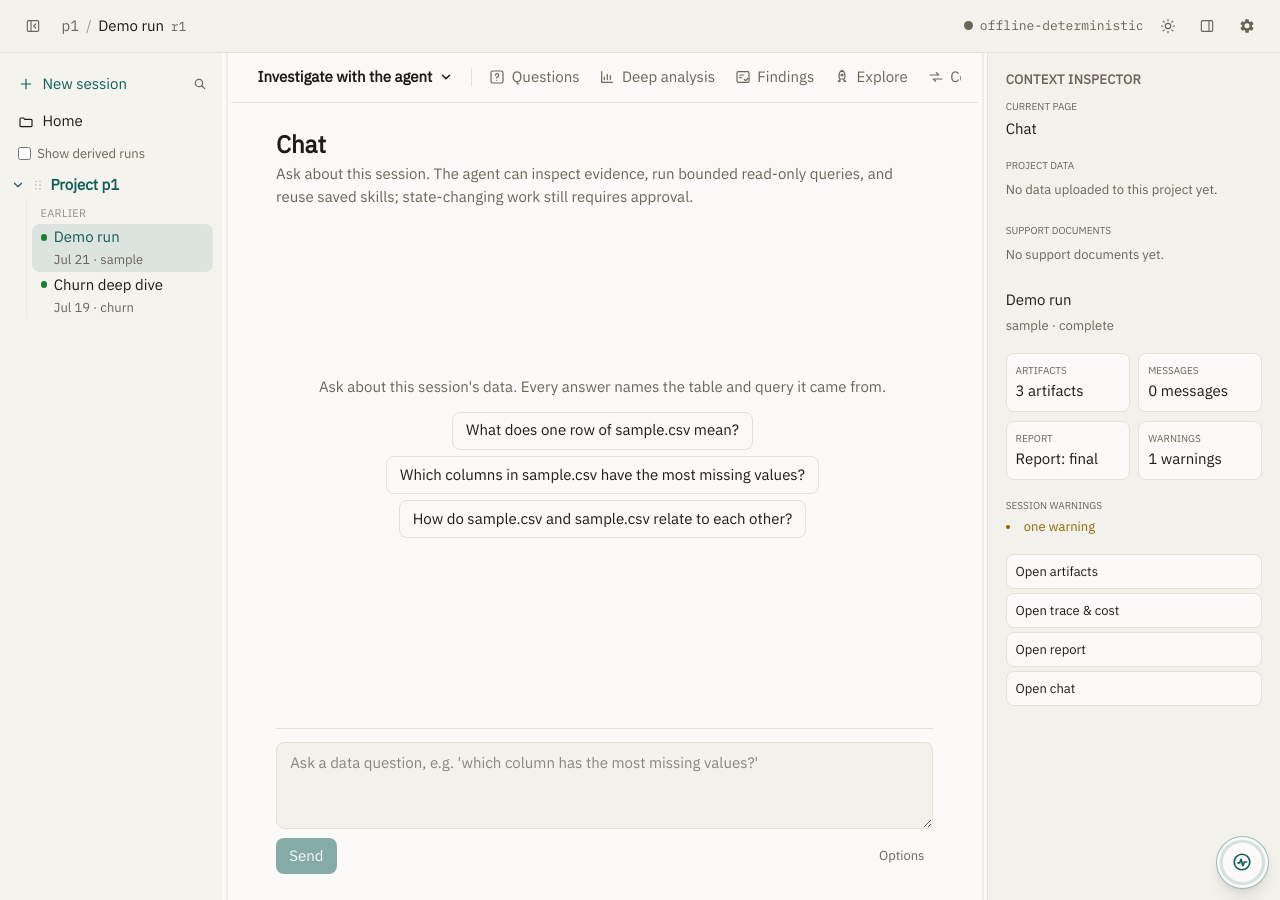
Test case: Chat page › explains a busy run instead of dropping the message
Check: the heading "Chat" is shown, box [276, 128, 326, 160]
Replace the text in the text box named "Message" with "hello": [605, 786] box [276, 742, 933, 829]
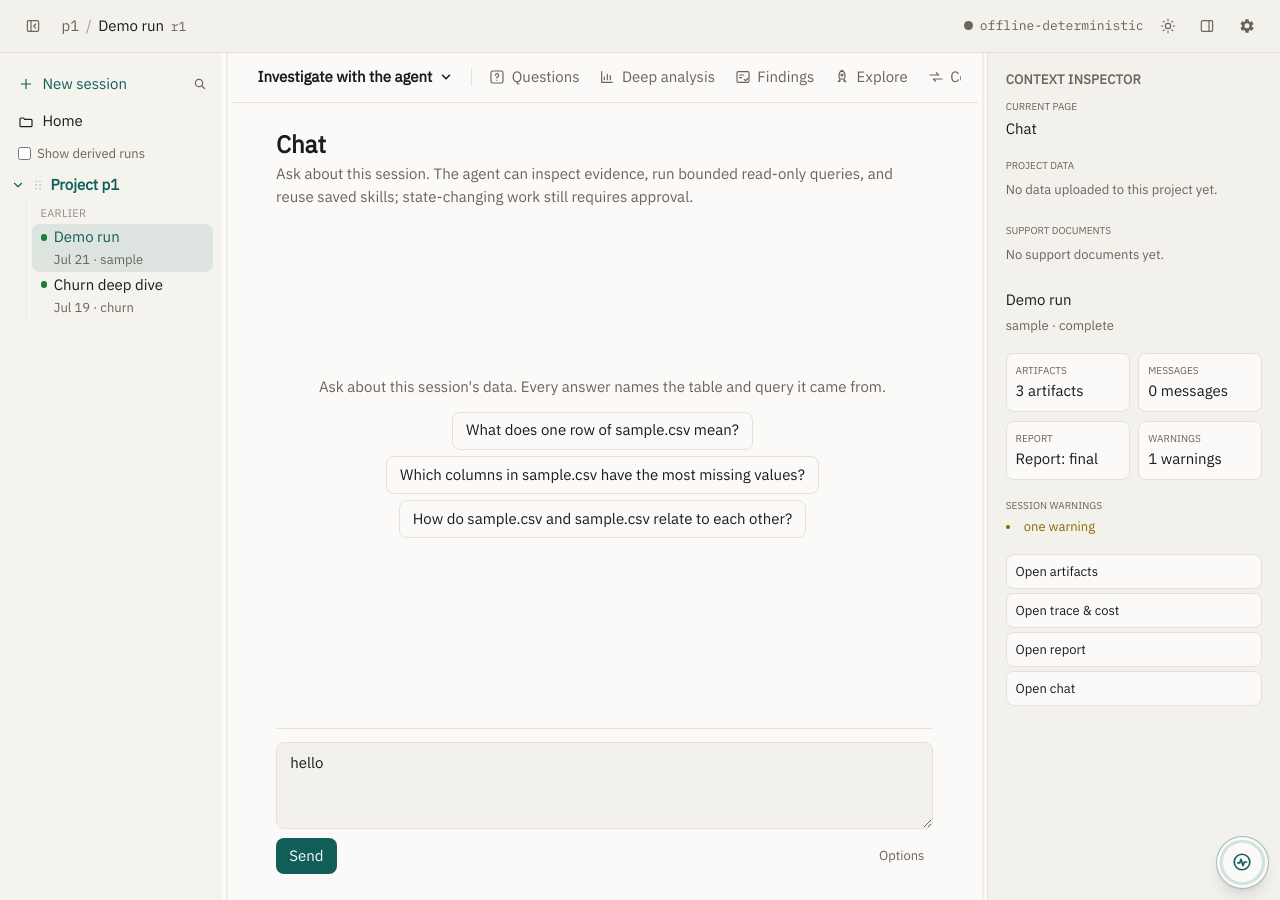
Click the button "Send": [306, 856] box [276, 838, 337, 874]
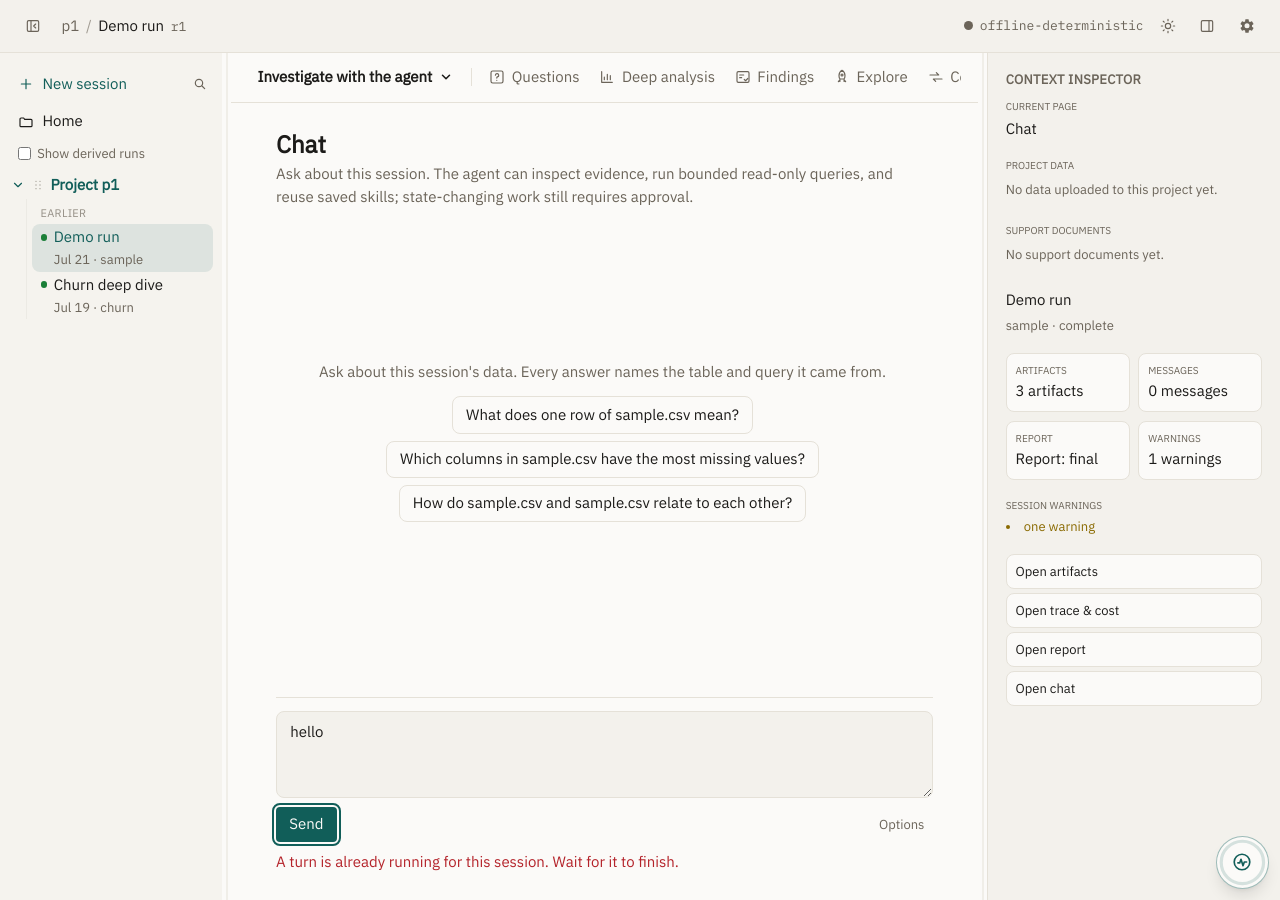
Check: the text "A turn is already running for this session. Wait for it to finish." is shown, box [276, 852, 679, 871]
